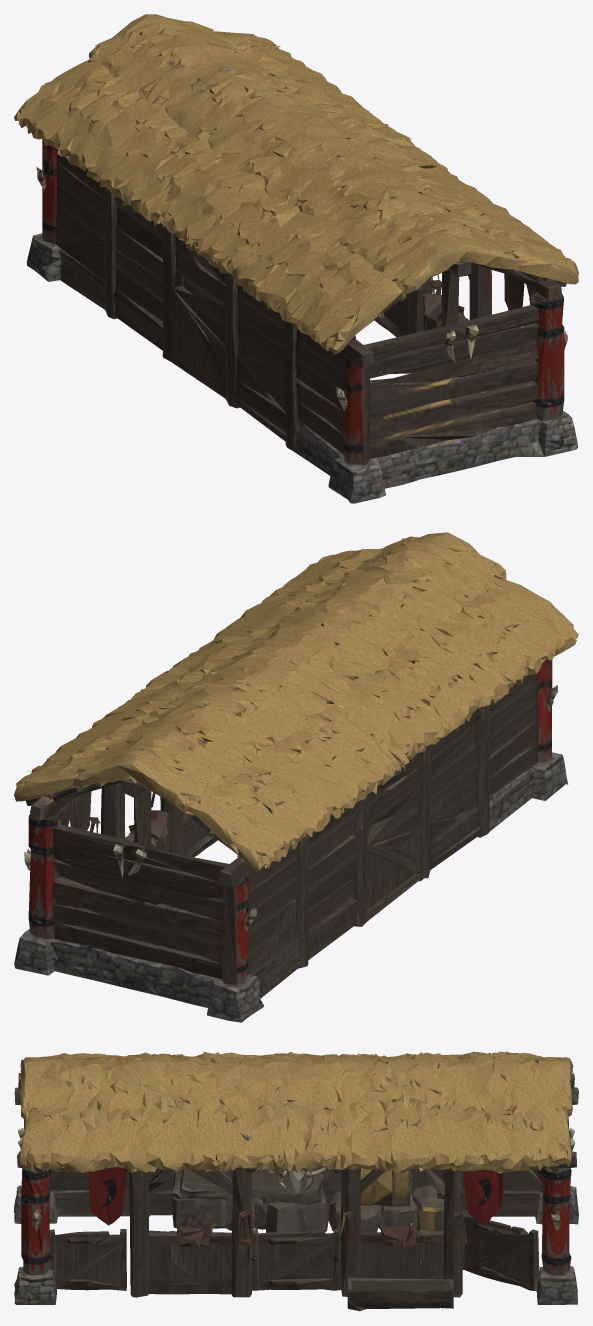
The model's file is stable_hay.glb.
The picture shows the model from 3 angles, top to bottom: view 1: azimuth 30°, elevation 25°; view 2: azimuth 150°, elevation 25°; view 3: azimuth 270°, elevation 25°; orthographic projection. The views are drawn at different scales.
Parts seen in each view (by area): view 1: stable_hay; view 2: stable_hay; view 3: stable_hay.
Boxes of the visible parts, left/top/right/bottom form: stable_hay: left=14, top=14, right=578, bottom=503; stable_hay: left=14, top=532, right=578, bottom=1022; stable_hay: left=14, top=1051, right=578, bottom=1311.
Size of the model in its own units: 6.7 by 5.5 by 14.19.
Materials: 1 (1 with a texture image).
